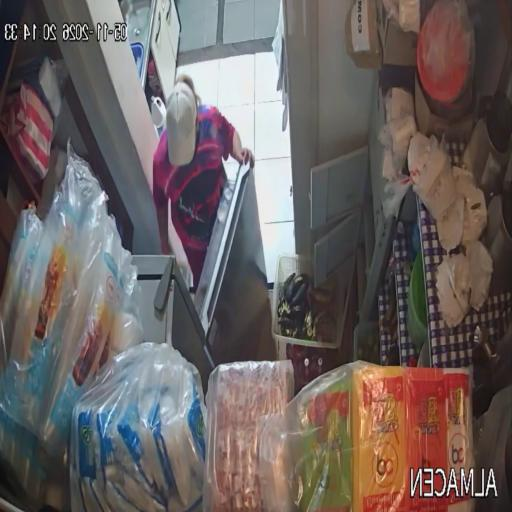Envase para platanos: (272, 256, 344, 351)
Persona2: (153, 75, 254, 285)
Productos culinarios: (0, 140, 137, 503), (286, 360, 475, 512), (70, 343, 206, 512), (203, 361, 294, 512)
Taper: (407, 250, 428, 349)
Taper2: (417, 340, 430, 367)
